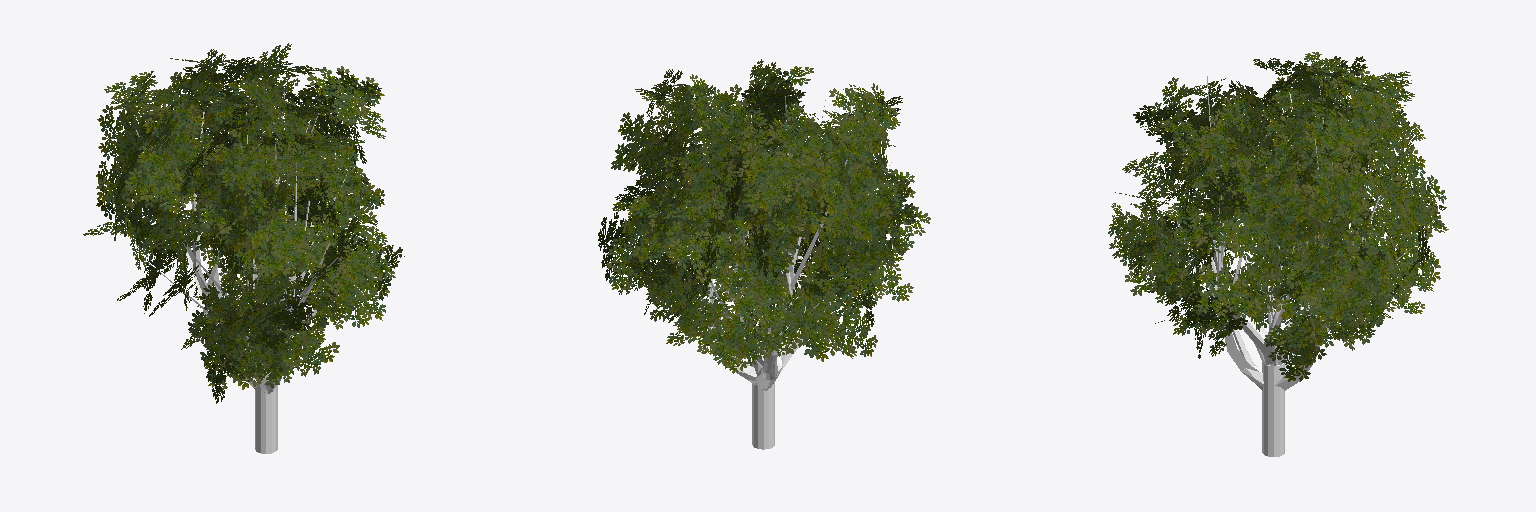
3 renders of one model, left to right at view 1: azimuth 30°, elevation 25°; view 2: azimuth 150°, elevation 25°; view 3: azimuth 270°, elevation 25°, orthographic.
Visible parts, largest first — view 1: Foliage__leafcard, Bark; view 2: Foliage__leafcard, Bark; view 3: Foliage__leafcard, Bark.
Boxes of the visible parts, box(x1,y1,x2,y2) form: Foliage__leafcard: box(83, 43, 404, 403); Bark: box(136, 92, 379, 453); Foliage__leafcard: box(598, 59, 930, 373); Bark: box(647, 88, 891, 449); Foliage__leafcard: box(1108, 52, 1448, 381); Bark: box(1110, 76, 1419, 456).
Bounding box in the file's own units: 20.95 × 25 × 21.51.
2 materials, 1 textured.